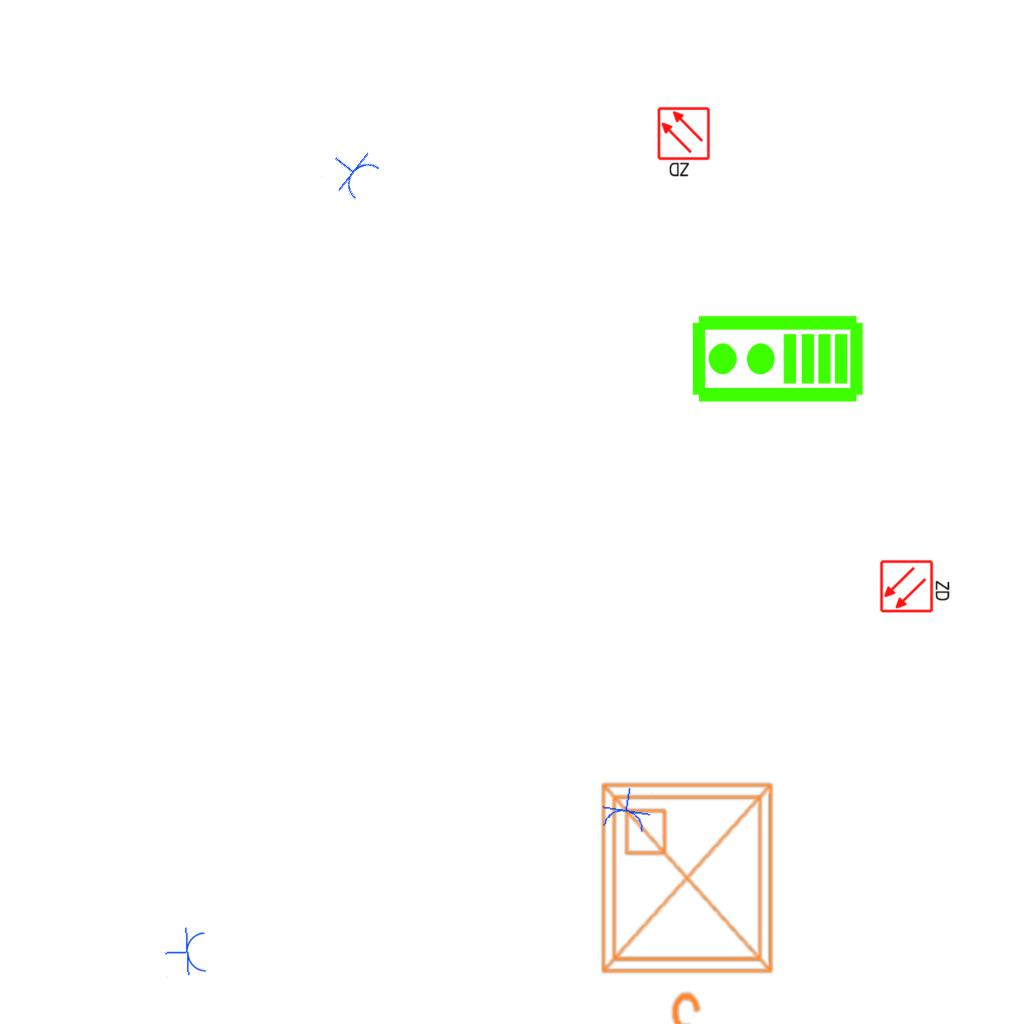Einbaudownlights_LED_Konferenzraeume: (587, 769, 795, 1024)
Gegensprechanlage_mit_Video: (689, 313, 865, 408)
Schukosteckdose_einfach: (319, 138, 385, 205), (597, 784, 655, 835), (163, 926, 209, 979)
ZD_Melder_in_Zwischendecke_mit_Revisionsoeffnung_mind_40_x_40_cm: (656, 106, 713, 180), (879, 557, 953, 614)
